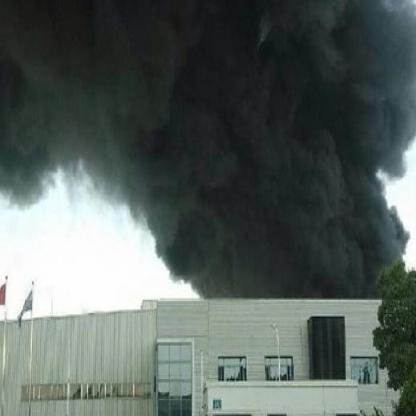smoke: (264, 12, 408, 161), (121, 10, 265, 158), (3, 5, 115, 172), (150, 162, 271, 263), (271, 164, 379, 262), (186, 264, 377, 297)
